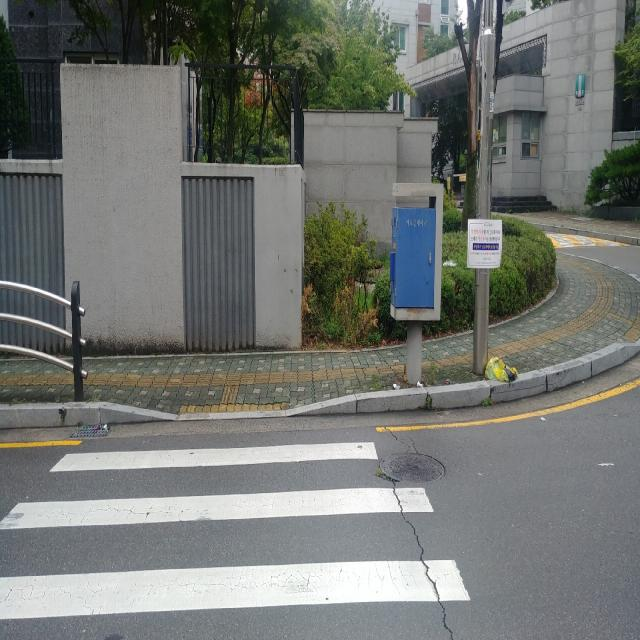횡단보도: (0, 443, 473, 621)
